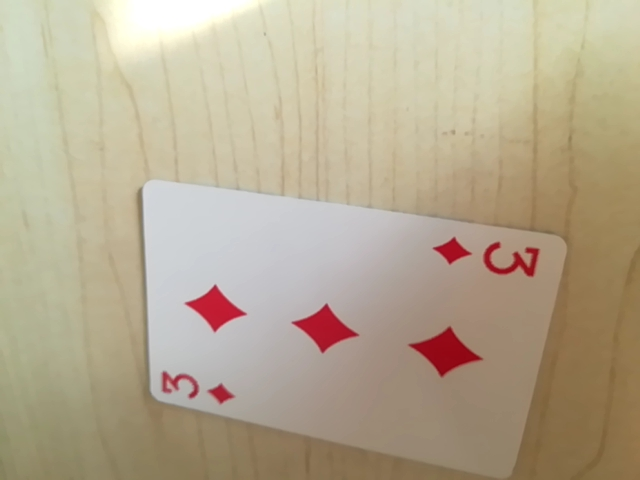fk 3: (430, 233, 544, 283), (157, 367, 237, 410)
